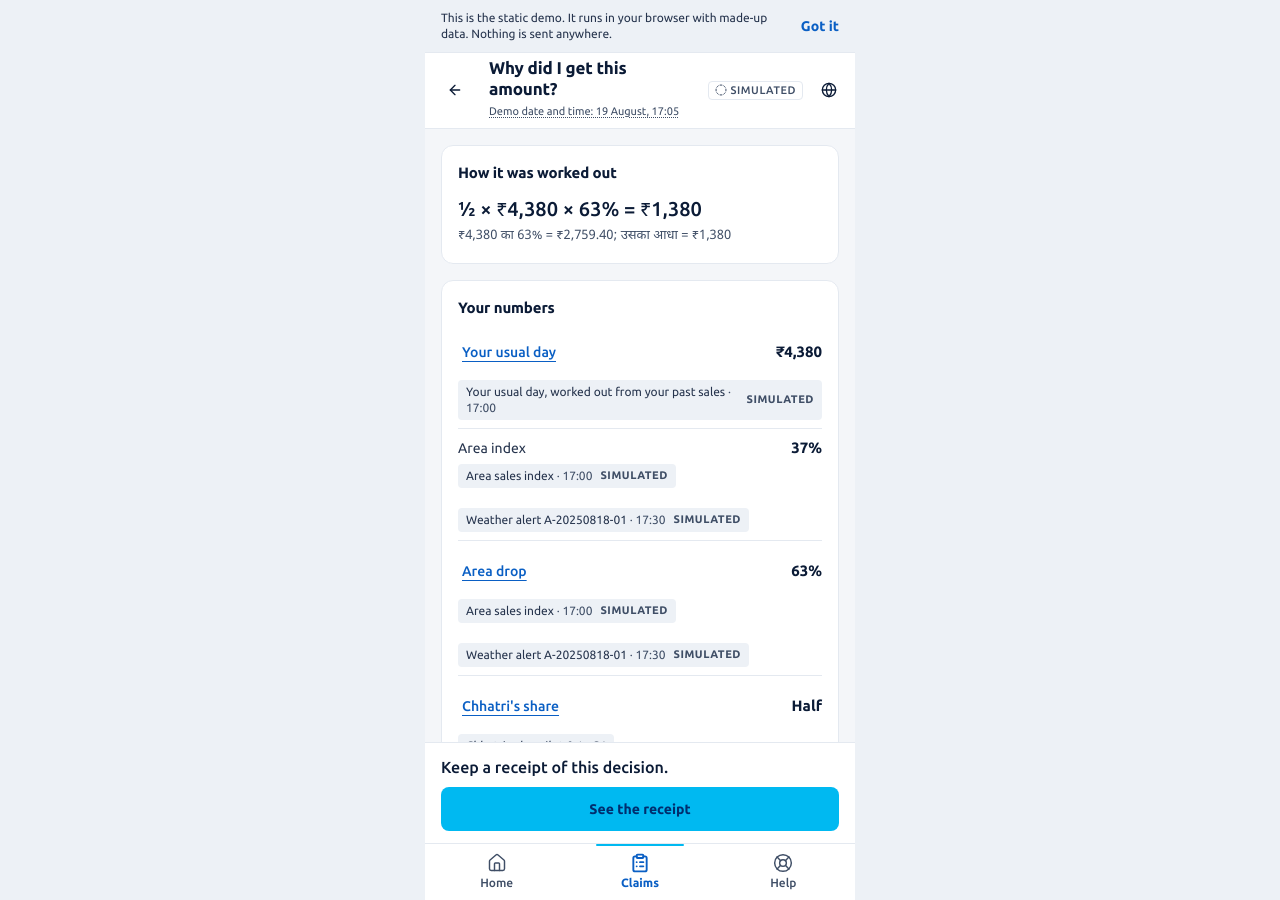
Test case: Anil's decision (AC-26) › opens the sheet of a badge with the record, its time and its type
Click the button with test id "source-badge" at (640, 400), box [458,380,822,420]
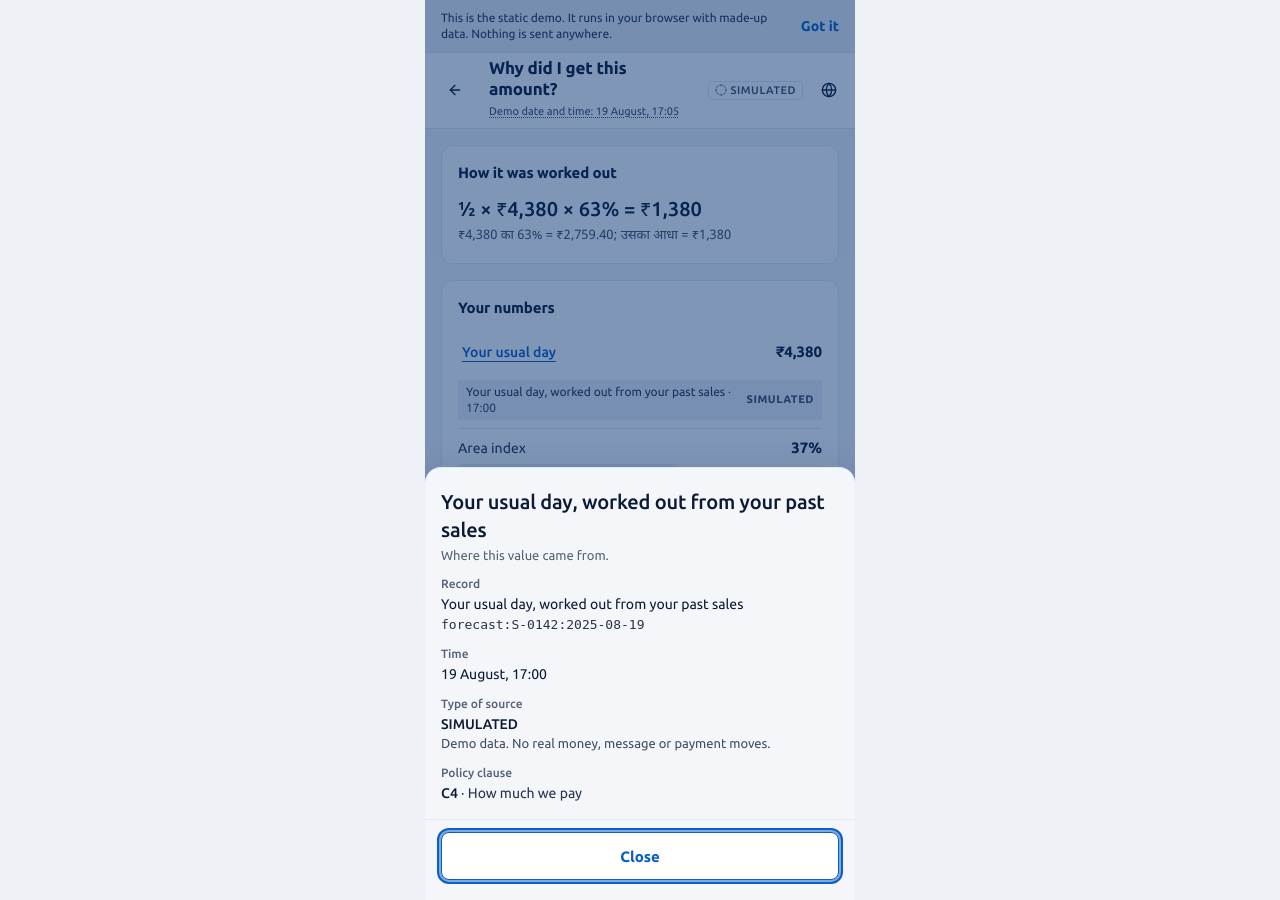
Expected: the element showing "SIMULATED" is shown, [708,80,803,100]
Expected: the dialog with test id "source-sheet" shows "forecast:S-0142:2025-08-19", [441,617,644,632]
